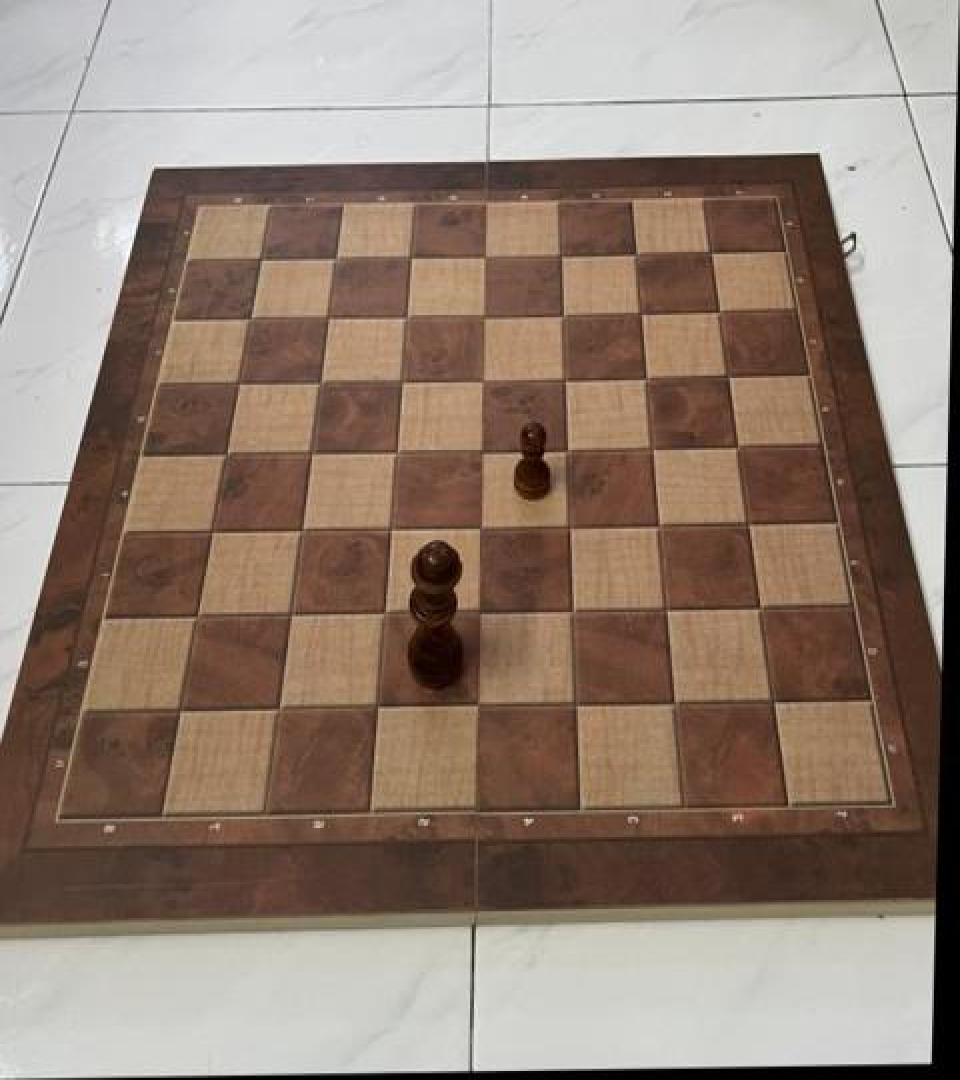xcorner: (470, 237, 504, 276), (546, 237, 580, 276), (462, 686, 496, 725), (244, 240, 278, 278), (320, 238, 354, 276), (395, 238, 429, 276), (621, 236, 655, 274), (696, 236, 730, 274), (234, 300, 268, 338), (312, 298, 346, 336), (391, 298, 425, 336), (469, 297, 503, 335), (547, 297, 581, 335), (626, 296, 660, 334), (703, 295, 737, 333), (222, 364, 256, 402), (304, 364, 338, 402), (386, 362, 420, 400), (468, 362, 502, 400), (550, 361, 584, 399), (631, 360, 665, 398), (712, 360, 746, 398), (210, 436, 244, 474), (296, 434, 330, 472), (381, 433, 415, 471), (467, 432, 501, 470), (552, 431, 586, 469), (637, 431, 671, 469), (721, 430, 755, 468), (197, 512, 231, 550), (286, 511, 320, 549), (376, 510, 410, 548), (465, 510, 499, 548), (554, 508, 588, 546), (732, 506, 766, 544), (182, 598, 216, 636), (276, 595, 310, 633), (370, 594, 404, 632), (463, 593, 497, 631), (557, 592, 591, 630), (650, 591, 684, 629), (743, 590, 777, 628), (166, 690, 200, 728), (265, 688, 299, 726), (363, 688, 397, 726), (560, 685, 594, 723), (657, 683, 691, 721), (755, 682, 789, 720), (643, 508, 677, 545)
